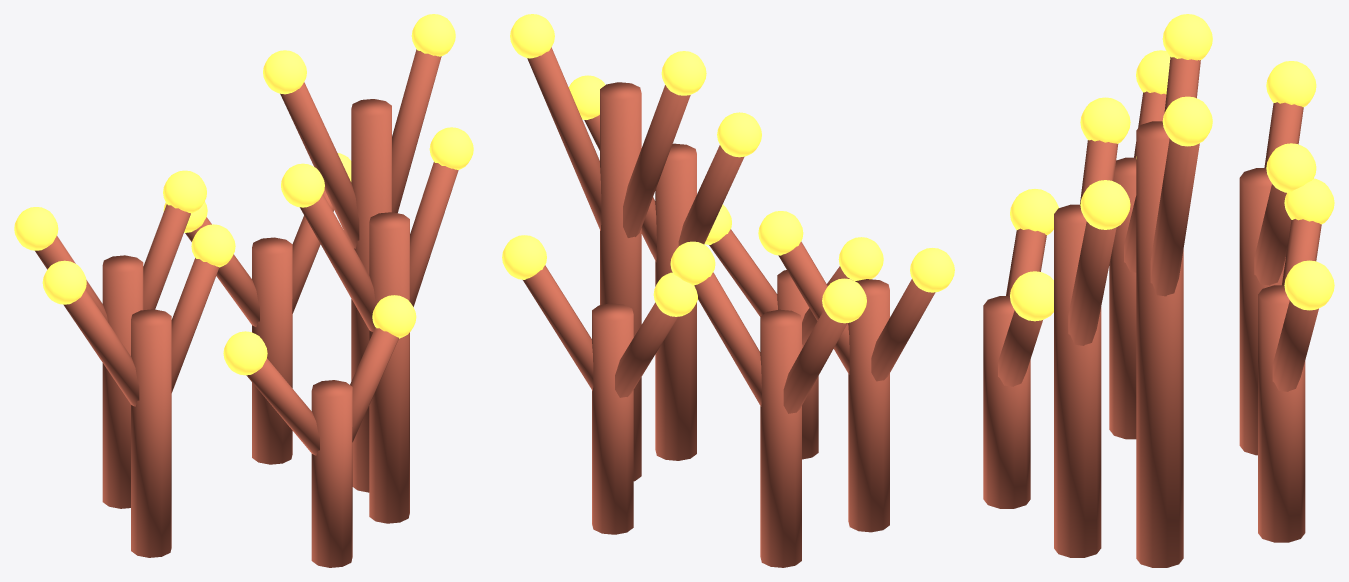
File: coral.glb
3 views of the same model, side by side, from view 1: azimuth 30°, elevation 25°; view 2: azimuth 150°, elevation 25°; view 3: azimuth 270°, elevation 25° (orthographic). The views are drawn at different scales.
Parts seen in each view (by area): view 1: coral / Coral | salmon, coral / Lamp | amber; view 2: coral / Coral | salmon, coral / Lamp | amber; view 3: coral / Coral | salmon, coral / Lamp | amber.
Part boxes in pixels (bbox=[...]): coral / Coral | salmon: bbox=[35, 49, 458, 567]; coral / Lamp | amber: bbox=[14, 14, 473, 375]; coral / Coral | salmon: bbox=[523, 47, 935, 567]; coral / Lamp | amber: bbox=[502, 14, 954, 323]; coral / Coral | salmon: bbox=[983, 57, 1321, 567]; coral / Lamp | amber: bbox=[1010, 14, 1334, 321].
Bounding box in the file's own units: 1.97 × 1.98 × 1.26.
